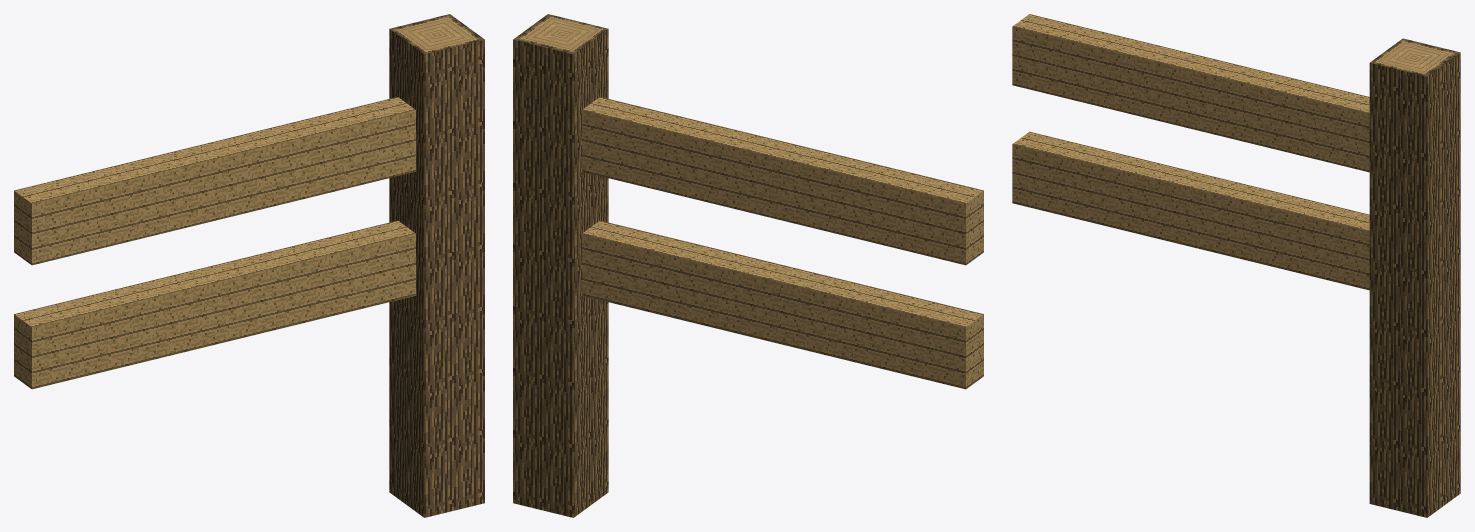
Rendered from fence.fbx.
3 renders of one model, left to right at view 1: azimuth 30°, elevation 25°; view 2: azimuth 150°, elevation 25°; view 3: azimuth 330°, elevation 25°, orthographic. The views are drawn at different scales.
Visible parts, largest first — view 1: Model; view 2: Model; view 3: Model.
Boxes of the visible parts, box(x1,y1,x2,y2) form: Model: box(14, 14, 484, 517); Model: box(513, 14, 983, 517); Model: box(1012, 14, 1460, 517).
Bounding box in the file's own units: 1.5 × 1.5 × 0.205.
